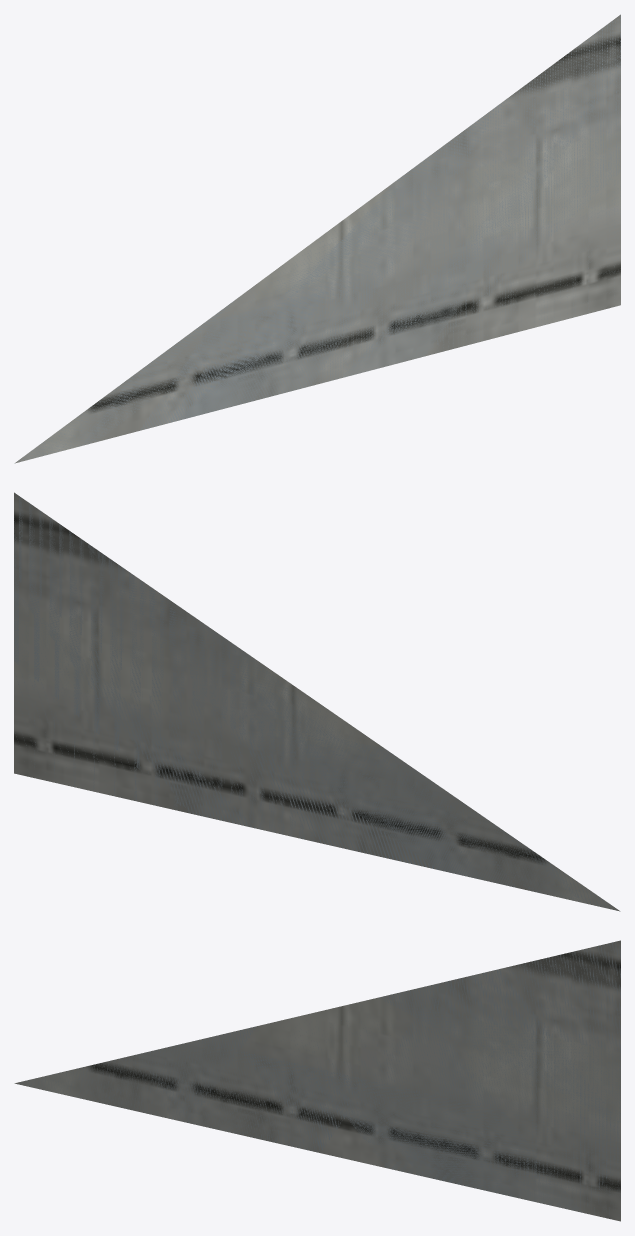
File: 人民英雄纪念碑10.dae
The picture shows the model from 3 angles, top to bottom: view 1: azimuth 30°, elevation 25°; view 2: azimuth 150°, elevation 25°; view 3: azimuth 330°, elevation 25°; orthographic projection. The views are drawn at different scales.
Visible parts, largest first — view 1: SketchUp; view 2: SketchUp; view 3: SketchUp.
Boxes of the visible parts, x1,y1,x2,y2 form: SketchUp: (14,14,620,463); SketchUp: (14,492,620,911); SketchUp: (14,940,620,1221).
Bounding box in the file's own units: 157 × 4.67 × 70.87.
